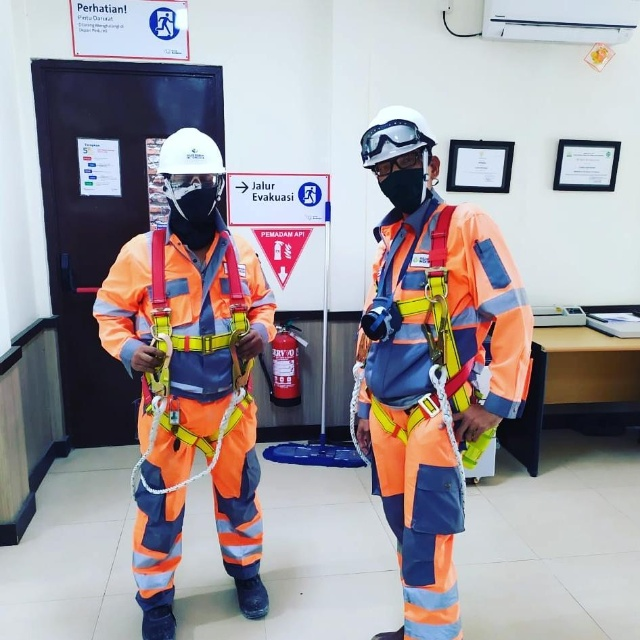Arnes_seguridad: (129, 224, 264, 493), (359, 213, 485, 464)
